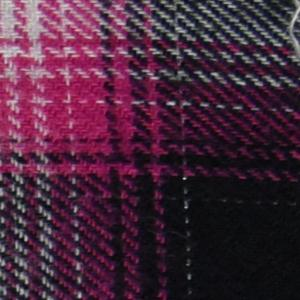Damage: (281, 1, 300, 63)
